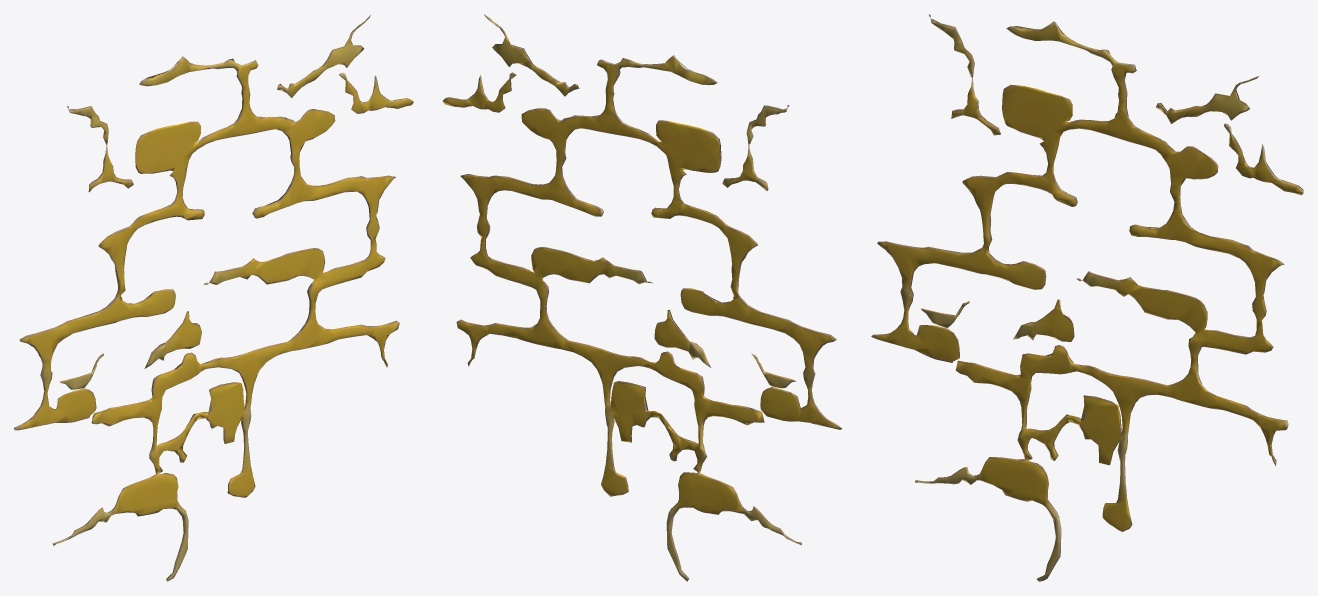
The model's file is golden+treasure+wall+3d+model.obj.
3 renders of one model, left to right at view 1: azimuth 30°, elevation 25°; view 2: azimuth 150°, elevation 25°; view 3: azimuth 330°, elevation 25°, orthographic. The views are drawn at different scales.
Visible parts, largest first — view 1: tripo_node_0c636e07-d998-4f7c-a263-8091ddad7540; view 2: tripo_node_0c636e07-d998-4f7c-a263-8091ddad7540; view 3: tripo_node_0c636e07-d998-4f7c-a263-8091ddad7540.
Boxes of the visible parts, bbox=[...] form: tripo_node_0c636e07-d998-4f7c-a263-8091ddad7540: bbox=[14, 15, 413, 581]; tripo_node_0c636e07-d998-4f7c-a263-8091ddad7540: bbox=[442, 14, 842, 581]; tripo_node_0c636e07-d998-4f7c-a263-8091ddad7540: bbox=[871, 14, 1303, 581].
Size of the model in its own units: 0.8006 by 1 by 0.0138.
Materials: 1 (1 with a texture image).
